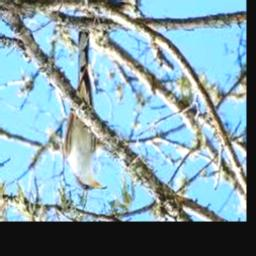Cuckoo: (63, 25, 105, 190)
